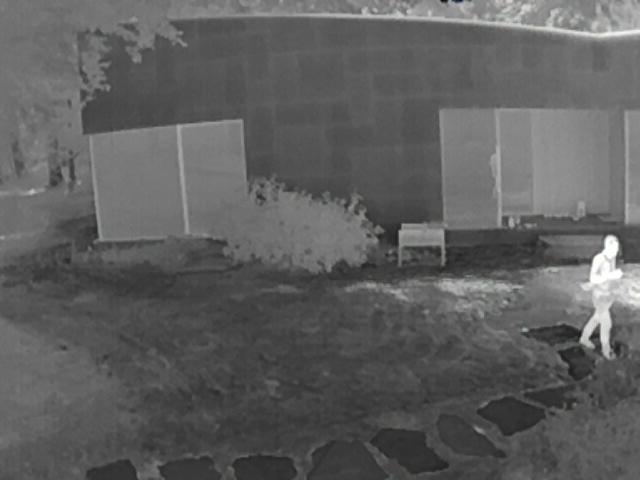person: (580, 233, 626, 359)
